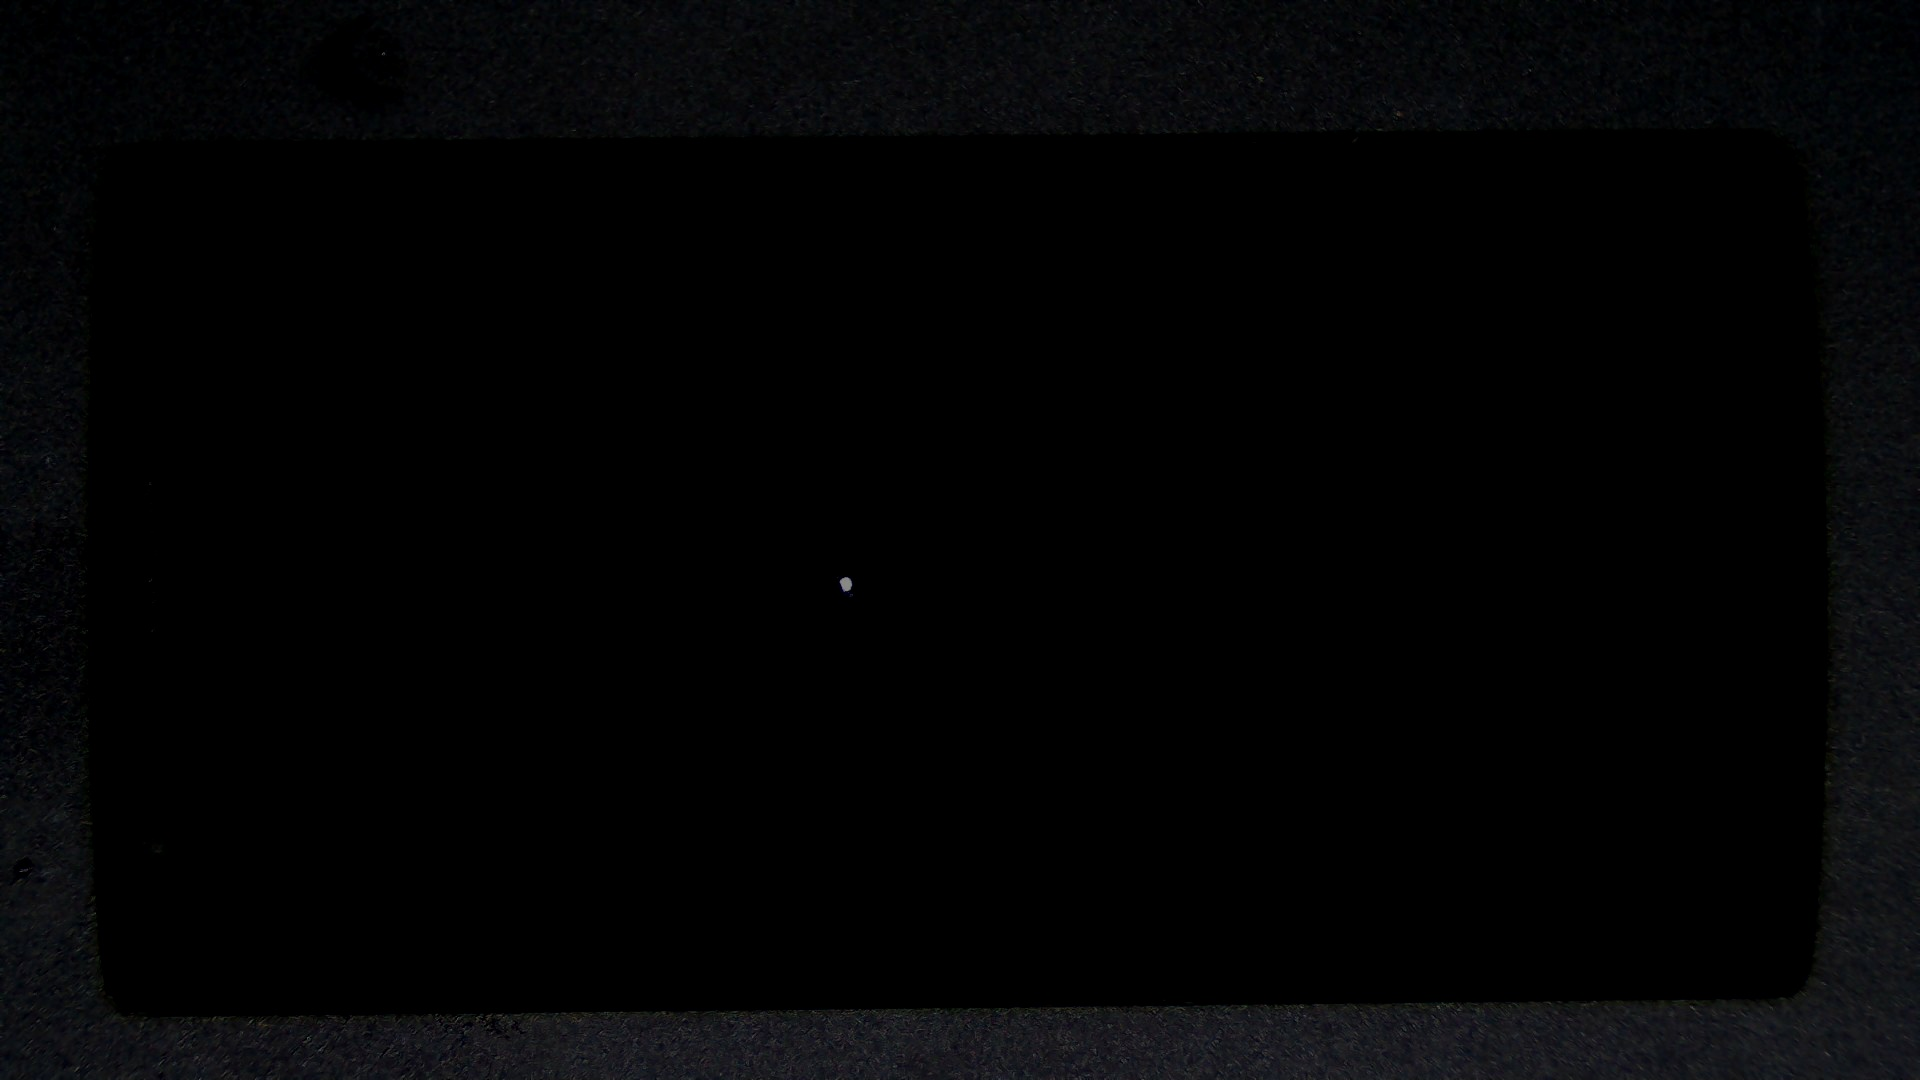oil: (425, 286, 1269, 861)
